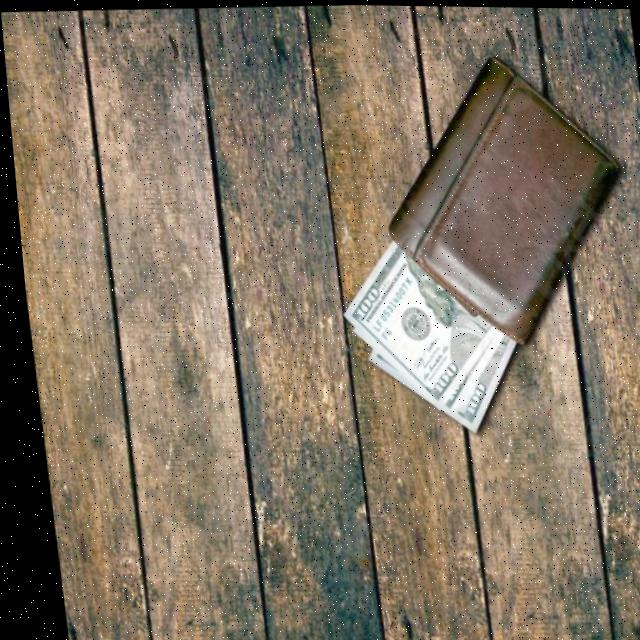cuzdan: (337, 4, 640, 392)
